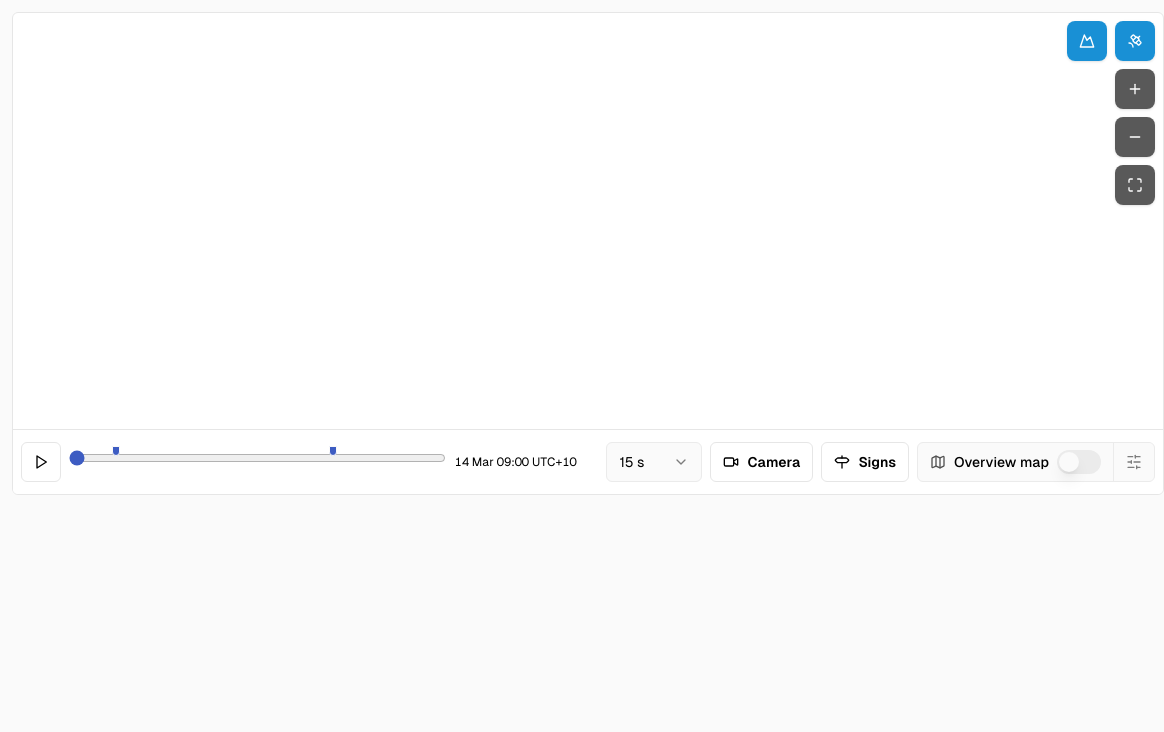
Test: ReplayPanel camera robustness › puts dates on the titles and heading once the shots span days
Click the button "Camera": (762, 462) left=710, top=442, right=814, bottom=482
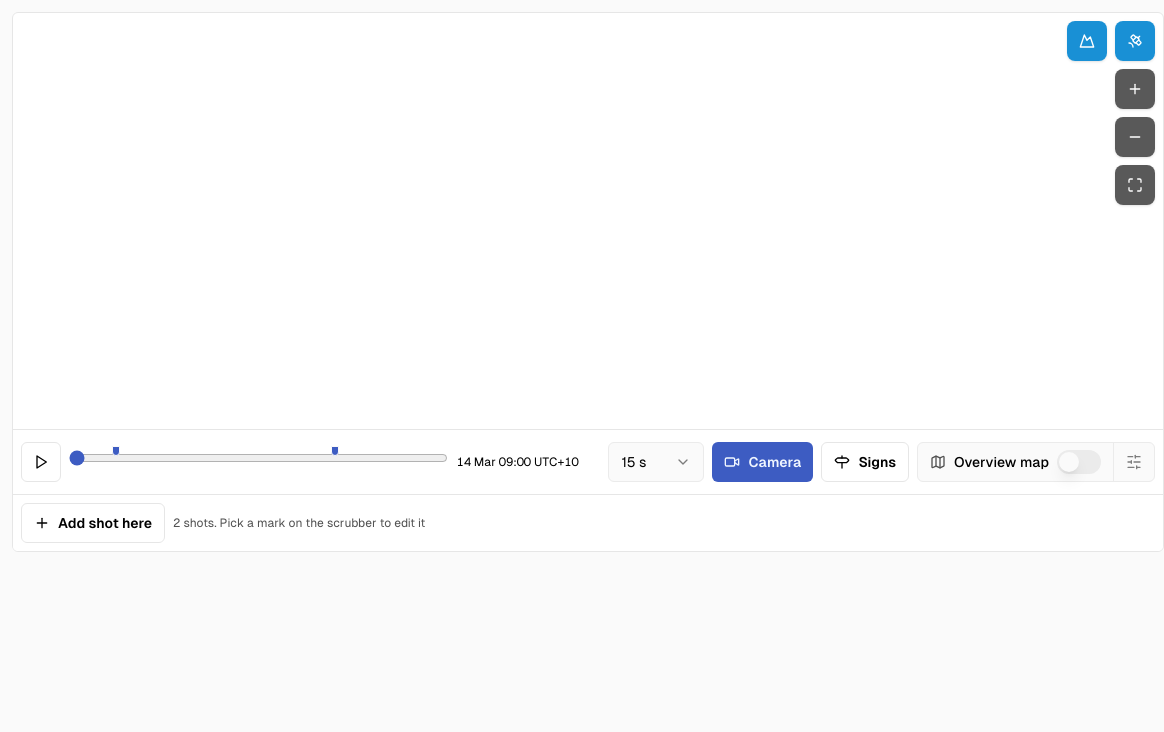
Click the button named "Camera shot": (116, 451) left=112, top=446, right=120, bottom=456
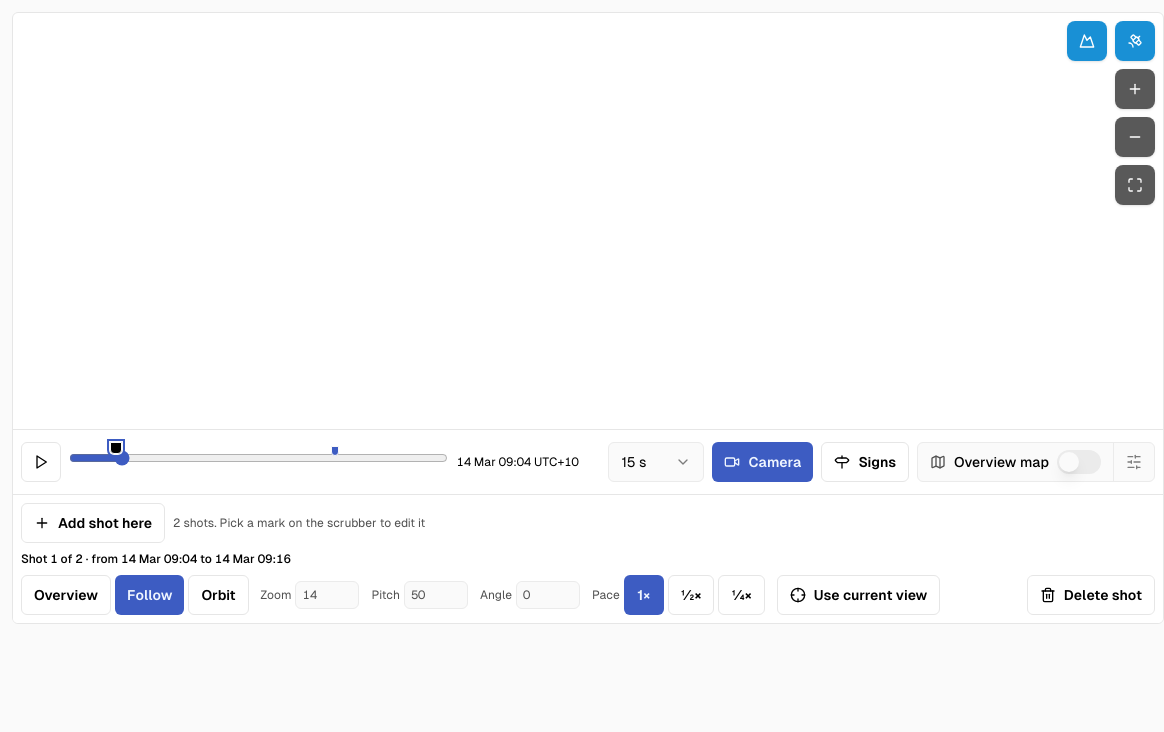
Expected: the text with test id "camera-shot-heading" reads "Shot 1 of 2 · from 14 Mar 09:04 to 14 Mar 09:16", left=21, top=552, right=291, bottom=566
